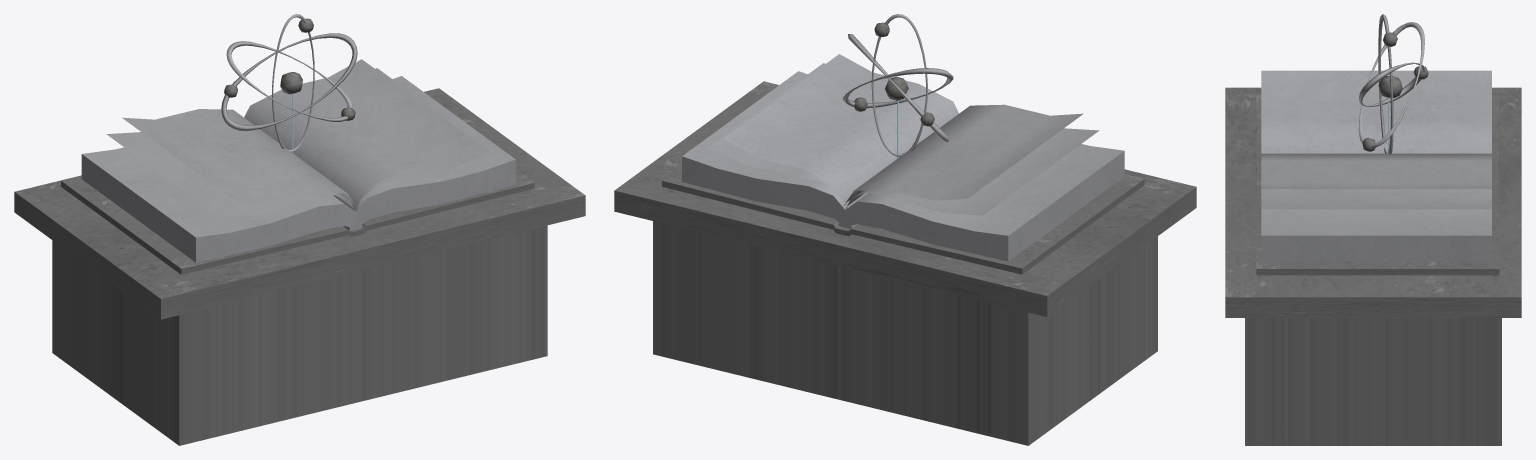
Rendered from Estatua de la Universidad(lowpoly).fbx.
The picture shows the model from 3 angles, left to right: view 1: azimuth 30°, elevation 25°; view 2: azimuth 150°, elevation 25°; view 3: azimuth 270°, elevation 25°; orthographic projection.
Visible parts, largest first — view 1: Cube.005, BézierCurve, Cube.004, BézierCircle.004, Cube; view 2: Cube.005, BézierCurve, Cube.004, BézierCircle.004, Cube; view 3: Cube.005, BézierCurve, Cube.004, BézierCircle.004, Cube.
Part boxes in pixels (bbox=[...]): Cube.005: bbox=[14, 88, 585, 445]; BézierCurve: bbox=[81, 59, 515, 262]; Cube.004: bbox=[61, 169, 534, 274]; BézierCircle.004: bbox=[221, 14, 357, 152]; Cube: bbox=[224, 18, 355, 120]; Cube.005: bbox=[614, 81, 1196, 445]; BézierCurve: bbox=[682, 54, 1124, 261]; Cube.004: bbox=[662, 166, 1144, 274]; BézierCircle.004: bbox=[843, 14, 953, 157]; Cube: bbox=[854, 22, 934, 126]; Cube.005: bbox=[1225, 87, 1521, 445]; BézierCurve: bbox=[1261, 70, 1491, 260]; Cube.004: bbox=[1256, 95, 1499, 275]; BézierCircle.004: bbox=[1358, 14, 1424, 153]; Cube: bbox=[1362, 32, 1428, 151].
Size of the model in its own units: 2.88 by 2.18 by 1.72.
